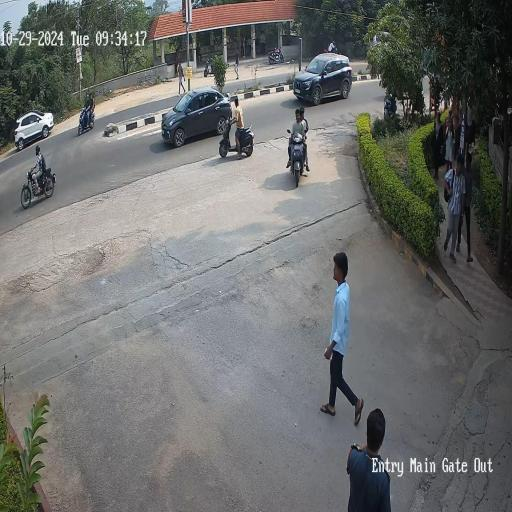helmet: (31, 137, 50, 169)
no helmet: (228, 94, 246, 121)
triple riding: (288, 106, 314, 188)
